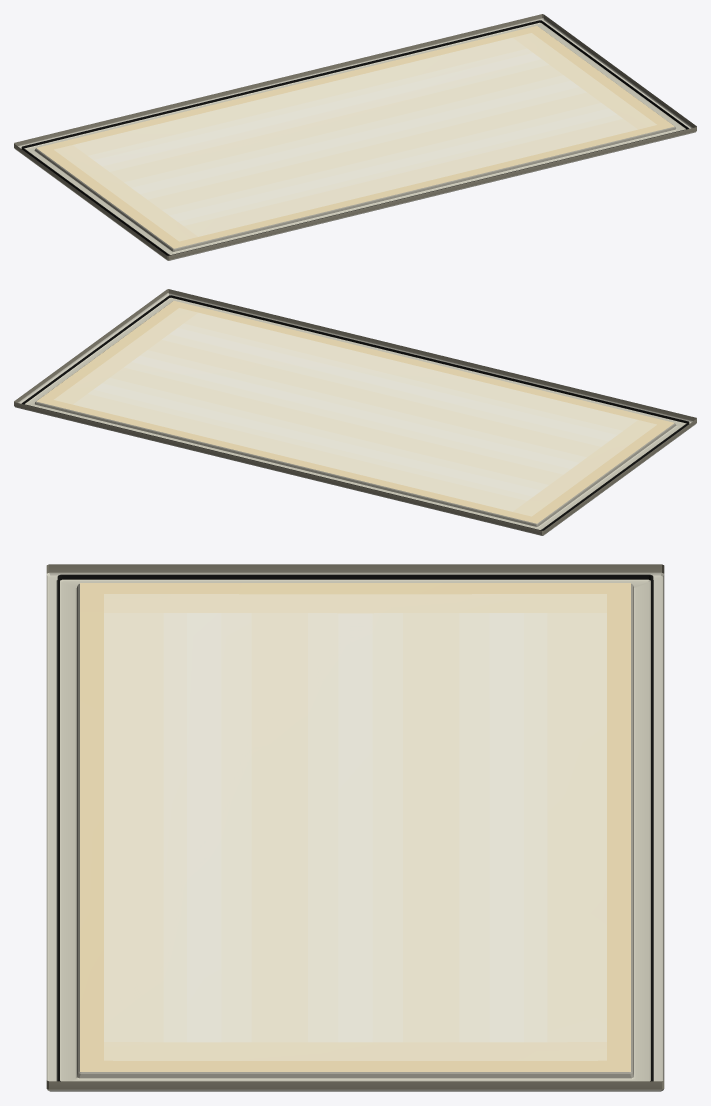
File: troffer.glb
3 renders of one model, top to bottom at view 1: azimuth 30°, elevation 25°; view 2: azimuth 150°, elevation 25°; view 3: azimuth 270°, elevation 25°, orthographic. The views are drawn at different scales.
Visible parts, largest first — view 1: rasterleuchte; view 2: rasterleuchte; view 3: rasterleuchte.
Part boxes in pixels (bbox=[...]): rasterleuchte: bbox=[14, 14, 696, 260]; rasterleuchte: bbox=[14, 289, 696, 535]; rasterleuchte: bbox=[46, 564, 664, 1091].
Bounding box in the file's own units: 1.21 × 0.0122 × 0.612.
